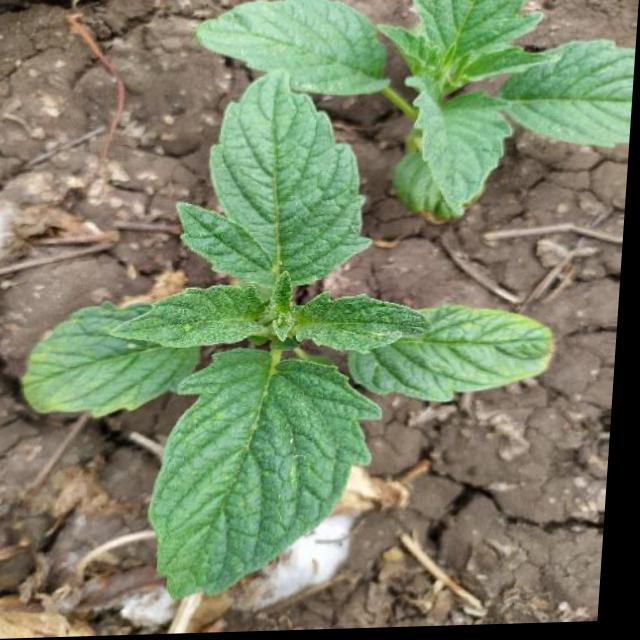crop: (13, 75, 579, 599), (169, 0, 640, 244)
